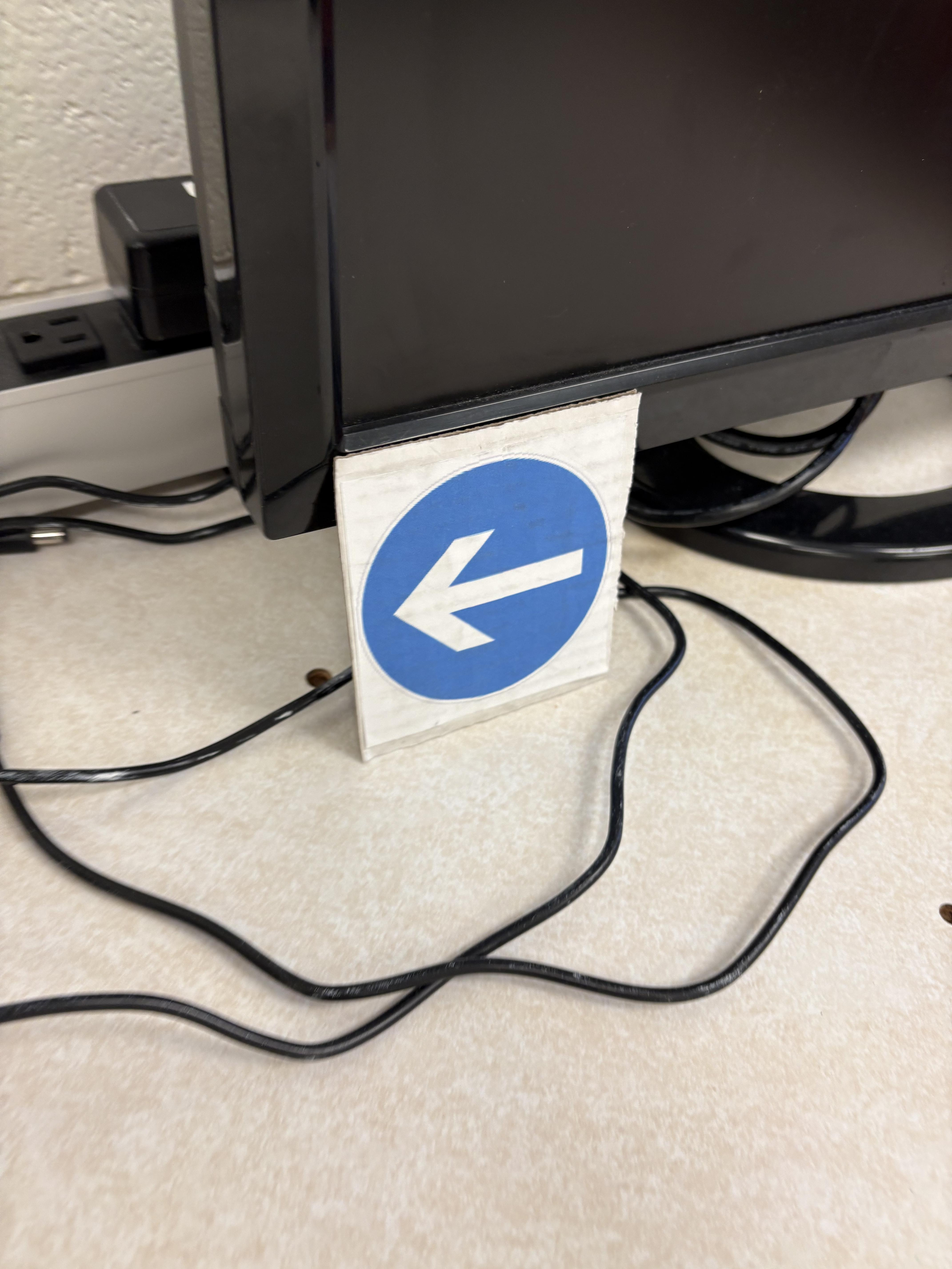Proceed Left: (253, 527, 477, 1018)
